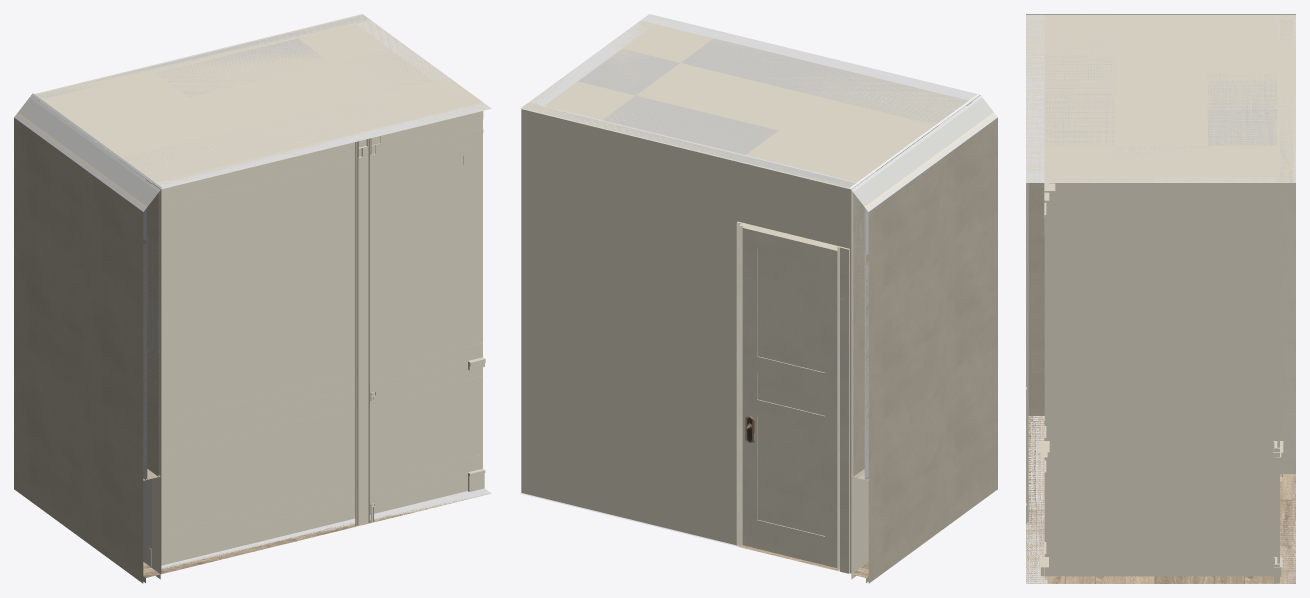
Rendered from upstairs-closet-west-6afa5257fd8e.glb.
The picture shows the model from 3 angles, left to right: view 1: azimuth 30°, elevation 25°; view 2: azimuth 150°, elevation 25°; view 3: azimuth 270°, elevation 25°; orthographic projection. The views are drawn at different scales.
Visible parts, largest first — view 1: upstairs-closet-west-6e269356ae8bfd70, upstairs-closet-west-9d91b47435c6fb33, upstairs-closet-west-312b4ac1be39223d, upstairs-closet-west-33ee0b466567e5f0, upstairs-closet-west-ed5fdcd3ee9c0dd5, upstairs-closet-west-39b94aca90fa4b53, upstairs-closet-west-3a4d9d62ecd7be1c, upstairs-closet-west-414385708a06acff, upstairs-closet-west-06754748489735a0, upstairs-closet-west-6a4a24524a86ae48, upstairs-closet-west-b63ee86b16afd4c0, upstairs-closet-west-1e3385c37a14aaf6 (+9 smaller); view 2: upstairs-closet-west-eb02897c2e79e2b1, upstairs-closet-west-312b4ac1be39223d, upstairs-closet-west-7406100458e293ce, upstairs-closet-west-9d91b47435c6fb33, upstairs-closet-west-33ee0b466567e5f0, upstairs-closet-west-242740a07d2af182, upstairs-closet-west-6a4a24524a86ae48, upstairs-closet-west-3a4d9d62ecd7be1c, upstairs-closet-west-39b94aca90fa4b53, upstairs-closet-west-442e5a19ed849720, upstairs-closet-west-4fe731a8ba1c3bde, upstairs-closet-west-6e269356ae8bfd70 (+3 smaller); view 3: upstairs-closet-west-af27112094daa34f, upstairs-closet-west-9d91b47435c6fb33, upstairs-closet-west-6e269356ae8bfd70, upstairs-closet-west-2575515a05775d9e, upstairs-closet-west-6a4a24524a86ae48, upstairs-closet-west-442e5a19ed849720, upstairs-closet-west-242740a07d2af182, upstairs-closet-west-7f77ce4796f35946, upstairs-closet-west-eb02897c2e79e2b1, upstairs-closet-west-ed5fdcd3ee9c0dd5, upstairs-closet-west-72fcfe59ea86eabd.
Boxes of the visible parts, x1,y1,x2,y2 form: upstairs-closet-west-6e269356ae8bfd70: (152, 102, 491, 573); upstairs-closet-west-9d91b47435c6fb33: (31, 14, 491, 188); upstairs-closet-west-312b4ac1be39223d: (14, 114, 145, 480); upstairs-closet-west-33ee0b466567e5f0: (14, 386, 160, 583); upstairs-closet-west-ed5fdcd3ee9c0dd5: (355, 138, 369, 526); upstairs-closet-west-39b94aca90fa4b53: (18, 98, 158, 479); upstairs-closet-west-3a4d9d62ecd7be1c: (29, 95, 160, 476); upstairs-closet-west-414385708a06acff: (149, 469, 478, 567); upstairs-closet-west-06754748489735a0: (165, 160, 355, 424); upstairs-closet-west-6a4a24524a86ae48: (155, 38, 329, 97); upstairs-closet-west-b63ee86b16afd4c0: (165, 407, 355, 535); upstairs-closet-west-1e3385c37a14aaf6: (249, 358, 479, 422); upstairs-closet-west-eb02897c2e79e2b1: (520, 103, 859, 574); upstairs-closet-west-312b4ac1be39223d: (866, 114, 997, 480); upstairs-closet-west-7406100458e293ce: (742, 226, 837, 567); upstairs-closet-west-9d91b47435c6fb33: (520, 14, 980, 189); upstairs-closet-west-33ee0b466567e5f0: (851, 386, 997, 583); upstairs-closet-west-242740a07d2af182: (681, 38, 971, 130); upstairs-closet-west-6a4a24524a86ae48: (602, 95, 778, 154); upstairs-closet-west-3a4d9d62ecd7be1c: (851, 95, 982, 476); upstairs-closet-west-39b94aca90fa4b53: (853, 98, 993, 479); upstairs-closet-west-442e5a19ed849720: (736, 221, 840, 571); upstairs-closet-west-4fe731a8ba1c3bde: (840, 246, 849, 573); upstairs-closet-west-6e269356ae8bfd70: (641, 14, 979, 100); upstairs-closet-west-af27112094daa34f: (1044, 175, 1277, 583); upstairs-closet-west-9d91b47435c6fb33: (1026, 14, 1295, 182); upstairs-closet-west-6e269356ae8bfd70: (1026, 14, 1044, 583); upstairs-closet-west-2575515a05775d9e: (1026, 416, 1295, 583); upstairs-closet-west-6a4a24524a86ae48: (1207, 73, 1277, 145); upstairs-closet-west-442e5a19ed849720: (1283, 183, 1295, 473); upstairs-closet-west-242740a07d2af182: (1044, 21, 1114, 145); upstairs-closet-west-7f77ce4796f35946: (1044, 215, 1277, 235); upstairs-closet-west-eb02897c2e79e2b1: (1277, 15, 1295, 583); upstairs-closet-west-ed5fdcd3ee9c0dd5: (1026, 183, 1028, 521); upstairs-closet-west-72fcfe59ea86eabd: (1280, 183, 1282, 476).
Bounding box in the file's own units: 2.74 × 2.95 × 1.77.
22 materials, 3 textured.
